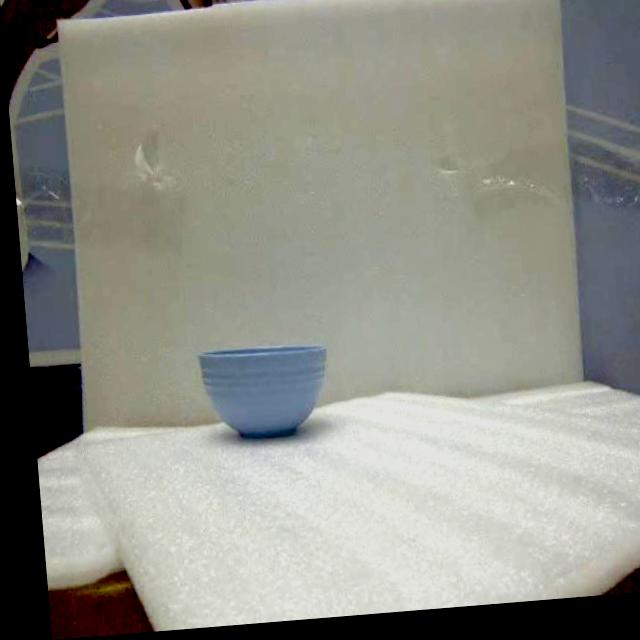Bowl: (199, 346, 326, 437)
